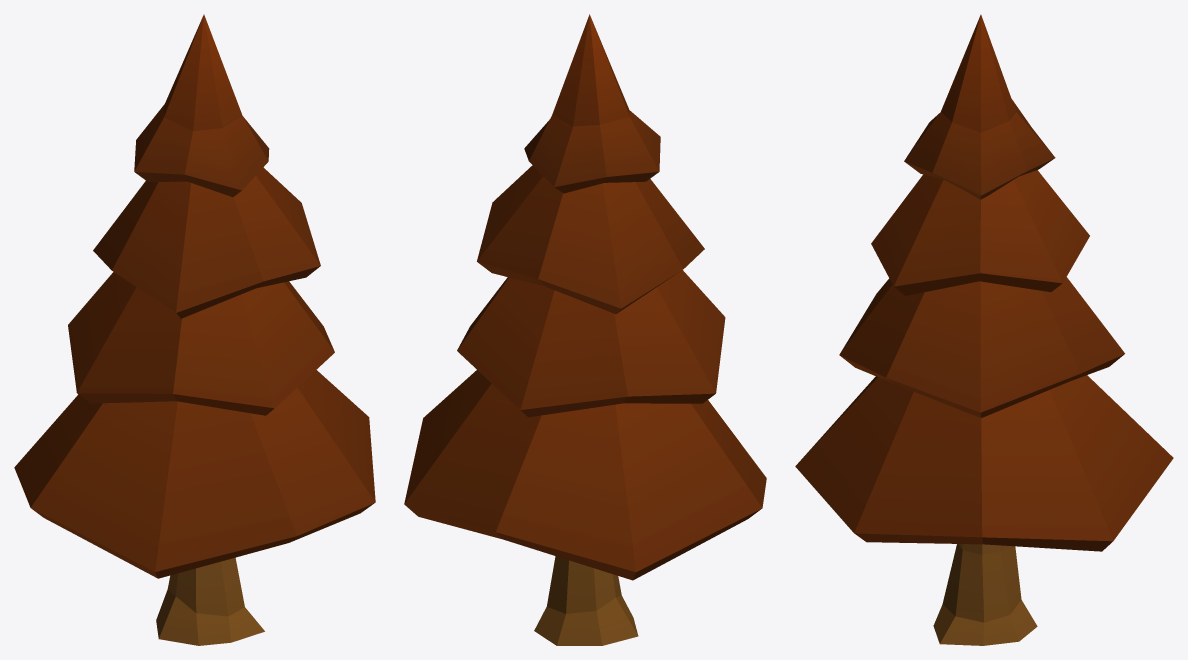
The model's file is Arbol_Hojas_rojo.fbx.
3 renders of one model, left to right at view 1: azimuth 30°, elevation 25°; view 2: azimuth 150°, elevation 25°; view 3: azimuth 270°, elevation 25°, orthographic.
Visible parts, largest first — view 1: Tree_Spruce_small_01; view 2: Tree_Spruce_small_01; view 3: Tree_Spruce_small_01.
Part boxes in pixels (x1,y1,x2,y2): Tree_Spruce_small_01: [14, 14, 375, 645]; Tree_Spruce_small_01: [404, 14, 766, 645]; Tree_Spruce_small_01: [795, 14, 1173, 645].
Size of the model in its own units: 1058 by 1826 by 1026.
